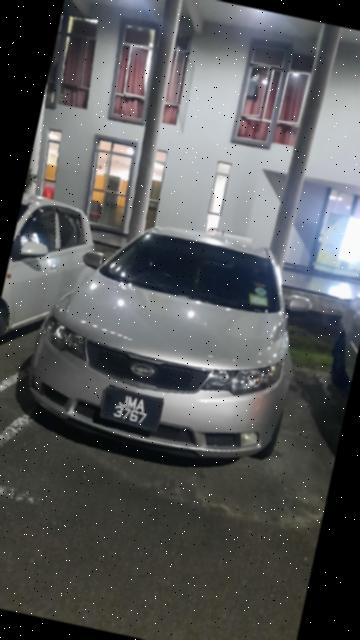License_Plate: (96, 382, 167, 438)
car: (13, 198, 323, 480)
